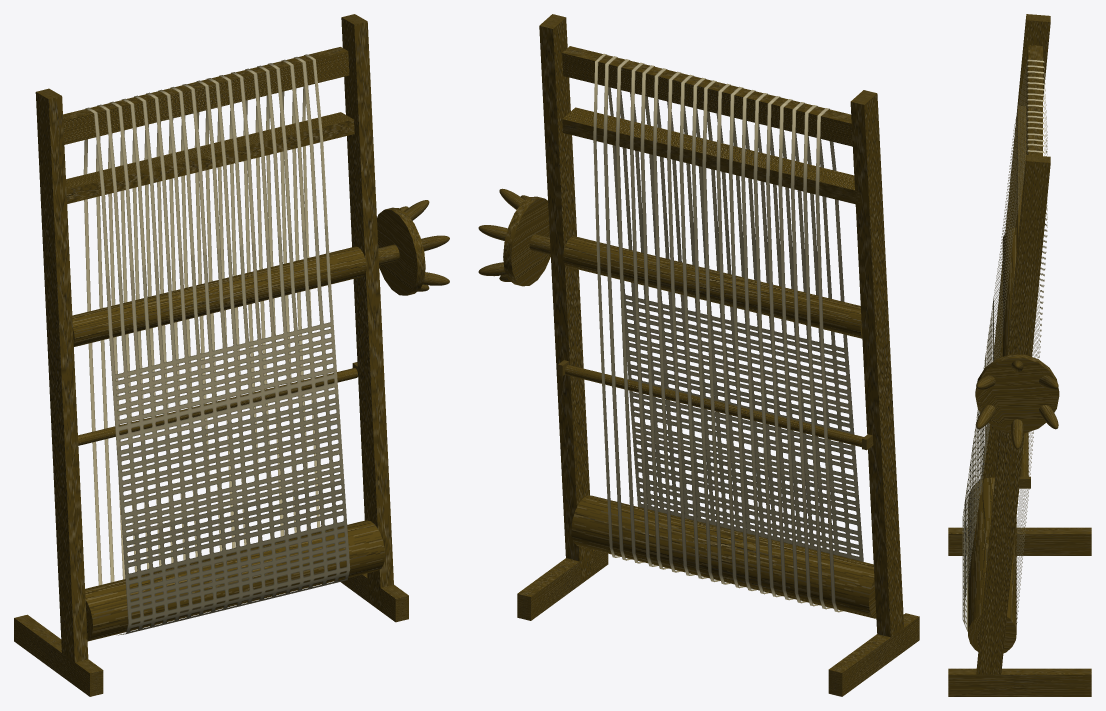
The model's file is basic loom.fbx.
3 renders of one model, left to right at view 1: azimuth 30°, elevation 25°; view 2: azimuth 150°, elevation 25°; view 3: azimuth 270°, elevation 25°, orthographic. The views are drawn at different scales.
Visible parts, largest first — view 1: cloth, Box006, Cylinder001, Cylinder002, Cylinder003; view 2: cloth, Box006, Cylinder002, Cylinder001, Cylinder003; view 3: Box006, cloth, Cylinder001, Cylinder002, Cylinder003.
Part boxes in pixels (x1,y1,x2,y2): cloth: (83,54,350,635); Box006: (14,14,408,696); Cylinder001: (72,200,449,346); Cylinder002: (85,520,384,641); Cylinder003: (78,368,357,445); cloth: (593,53,863,612); Box006: (517,14,919,696); Cylinder002: (571,495,876,618); Cylinder001: (478,188,862,338); Cylinder003: (565,365,863,447); Box006: (948,14,1091,696); cloth: (962,59,1047,631); Cylinder001: (975,227,1059,449); Cylinder002: (968,477,1016,653); Cylinder003: (1020,432,1028,476).
Bounding box in the file's own units: 83.61 × 121 × 29.25.
2 materials, 2 textured.
